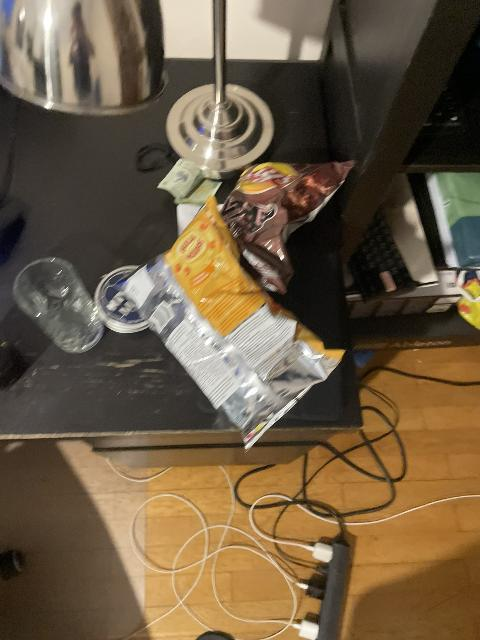Chio Hula Hoops Cheese 70g: (115, 206, 338, 452)
Lays Beef Grilled Ribs 125g: (220, 161, 353, 293)
